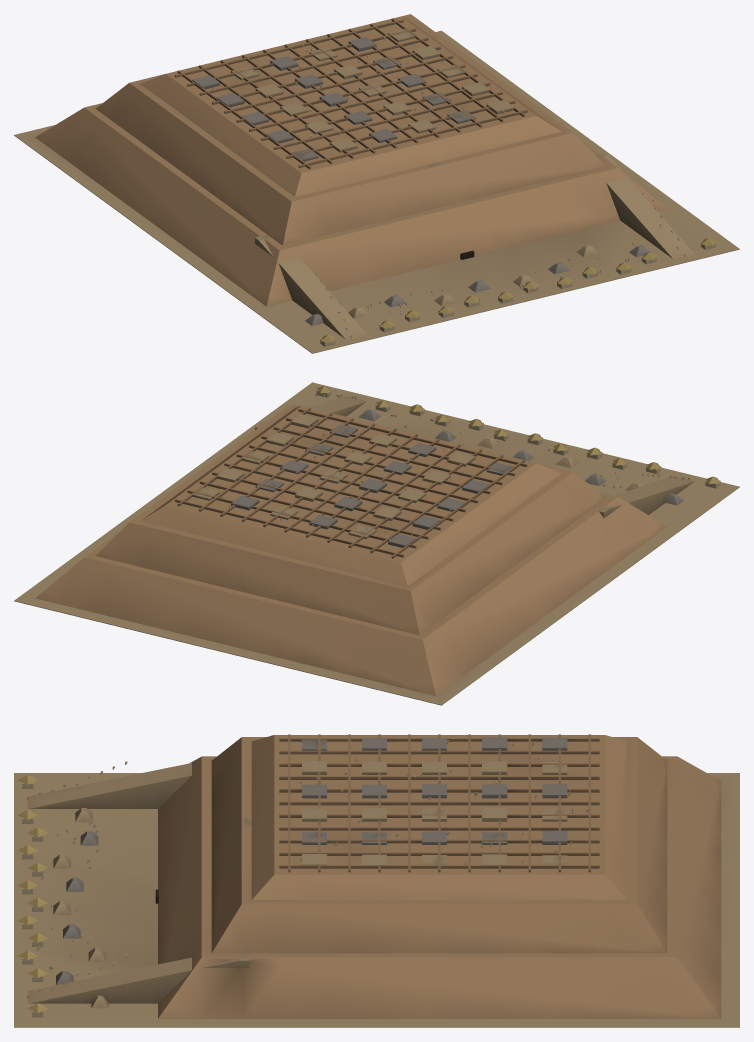
File: pyramid-of-the-sun-100.glb
The picture shows the model from 3 angles, top to bottom: view 1: azimuth 30°, elevation 25°; view 2: azimuth 150°, elevation 25°; view 3: azimuth 270°, elevation 25°; orthographic projection. The views are drawn at different scales.
Parts seen in each view (by area): view 1: p1_core, p0_ground, p2_workers; view 2: p1_core, p0_ground, p2_workers; view 3: p1_core, p0_ground, p2_workers.
Boxes of the visible parts, x1,y1,x2,y2 form: p1_core: [35, 14, 694, 339]; p0_ground: [14, 30, 739, 353]; p2_workers: [212, 35, 715, 346]; p1_core: [35, 396, 694, 695]; p0_ground: [14, 382, 739, 705]; p2_workers: [216, 385, 720, 536]; p1_core: [27, 734, 721, 1018]; p0_ground: [14, 773, 739, 1027]; p2_workers: [17, 740, 588, 1017].
Size of the model in its own units: 240 by 43.99 by 290.
